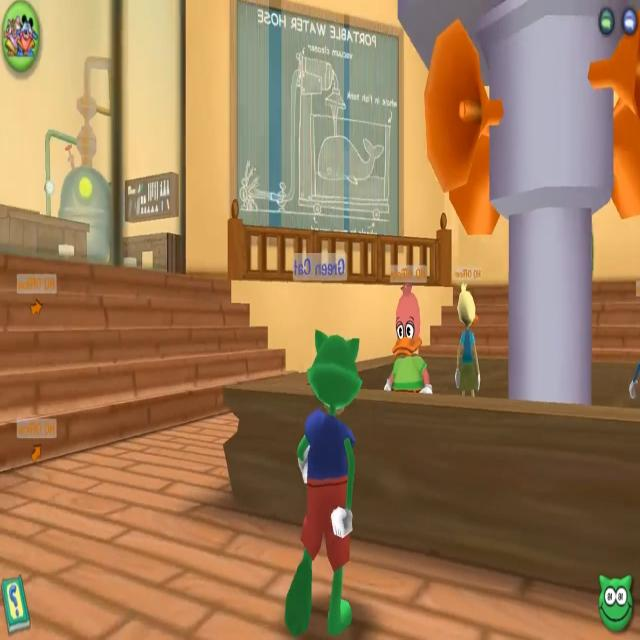npc: (386, 261, 432, 412), (453, 266, 485, 405), (629, 273, 640, 406)
